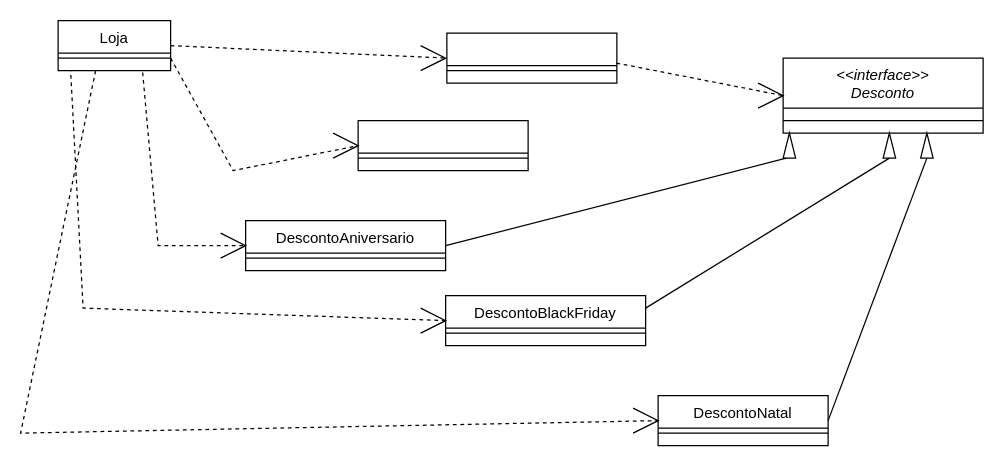
Some shapes in this 1004 by 466 pixel diagram are drawn without their labels. The shapes that lost their labels are listed below. From the top down, each one's centre as x and y in pixels, then its label:
(531,57): Compra
(442,145): Sem desconto
